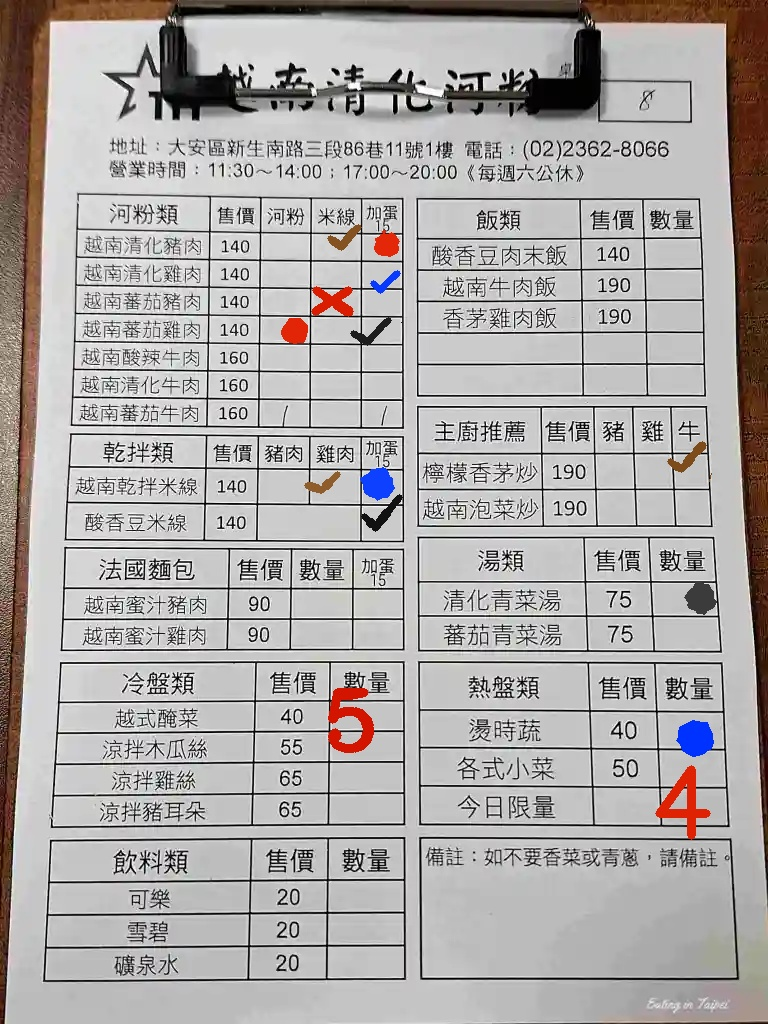marked_circle: (649, 583, 718, 618), (657, 713, 726, 748), (361, 468, 401, 505), (259, 316, 308, 344), (362, 232, 402, 262)
marked_number_4: (659, 784, 728, 819)
marked_number_5: (332, 700, 401, 735)
marked_tick: (309, 469, 361, 502), (671, 452, 711, 489), (362, 502, 402, 539), (312, 231, 361, 259), (361, 317, 401, 347), (363, 260, 403, 290)
marked_x: (313, 288, 362, 316)
